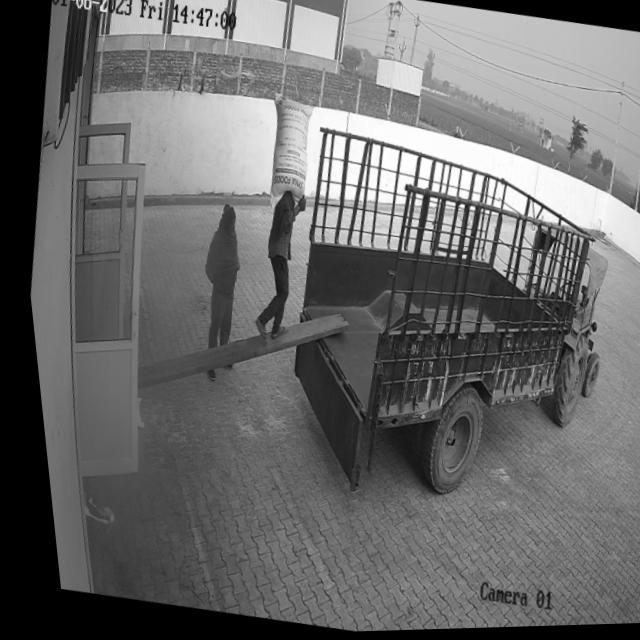sack: (252, 91, 321, 213)
